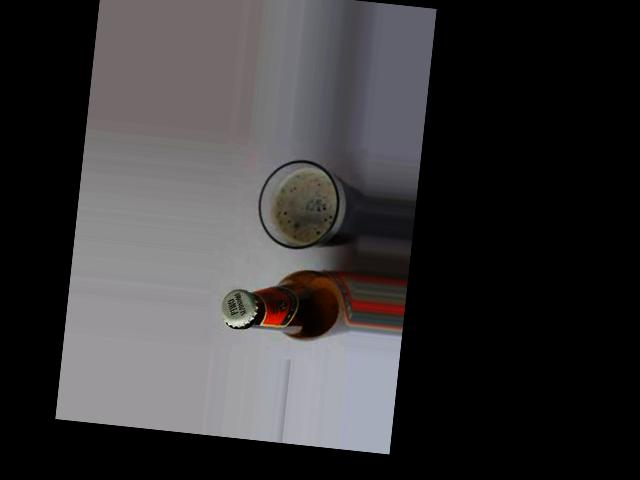beer: (219, 257, 358, 345)
